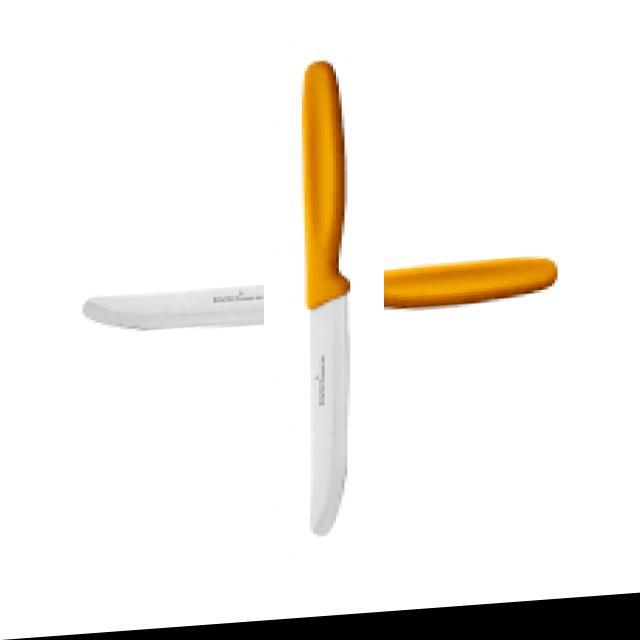knife: (81, 253, 556, 334), (299, 56, 352, 538)
